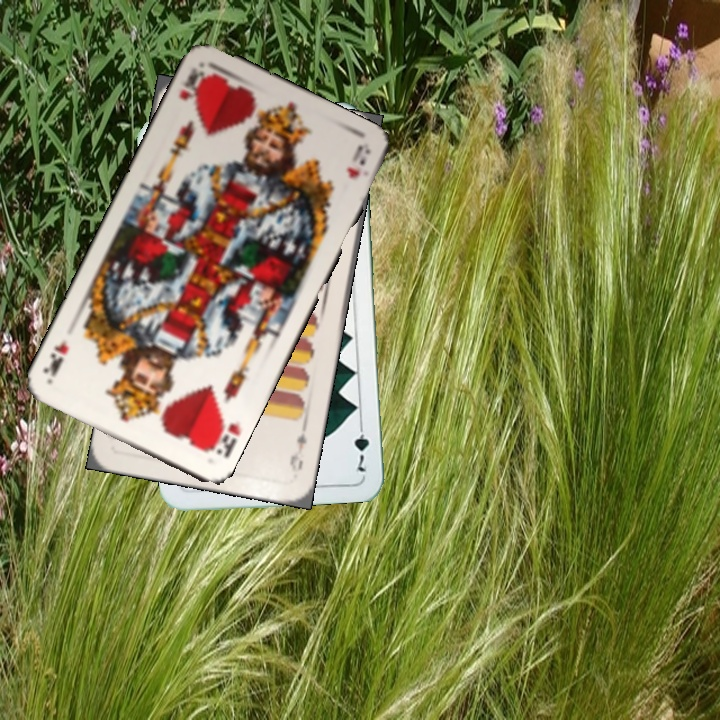E9: (286, 421, 309, 475)
G7: (350, 416, 372, 475)
HK: (203, 415, 243, 462), (175, 63, 212, 108)
